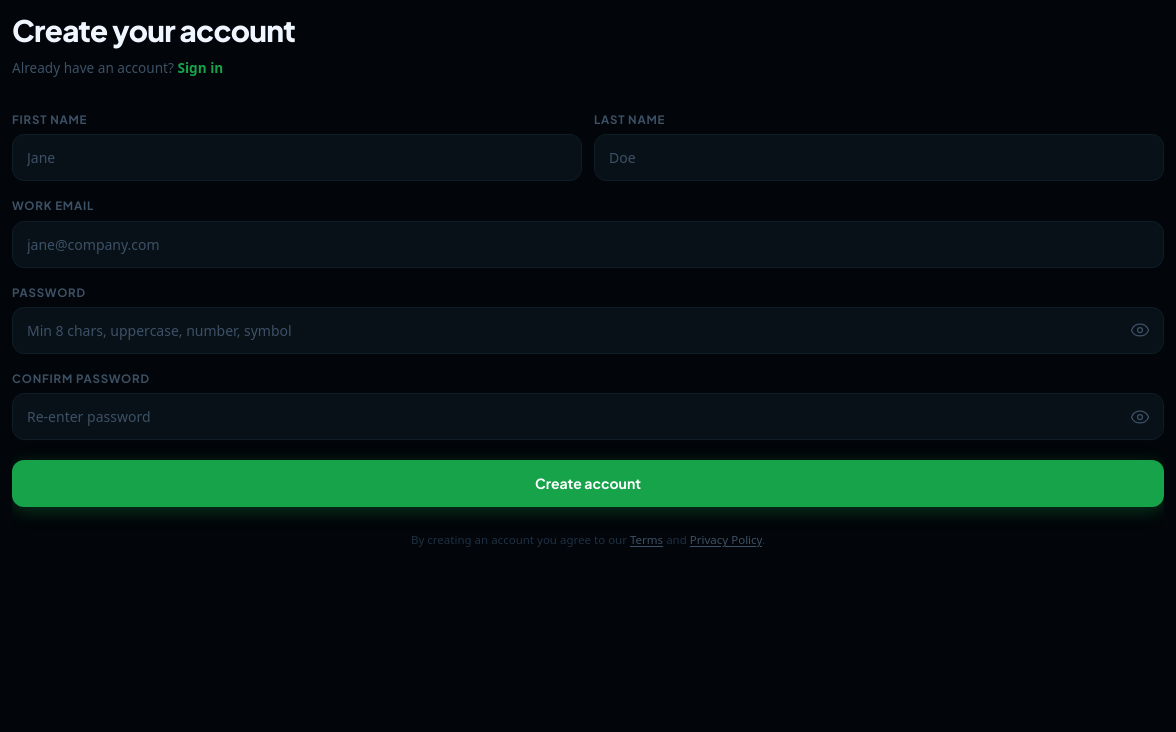
Test: RegisterForm › shows validation errors for empty submission
Step 1. Click the button "Create account" → (588, 484), box left=12, top=460, right=1164, bottom=507
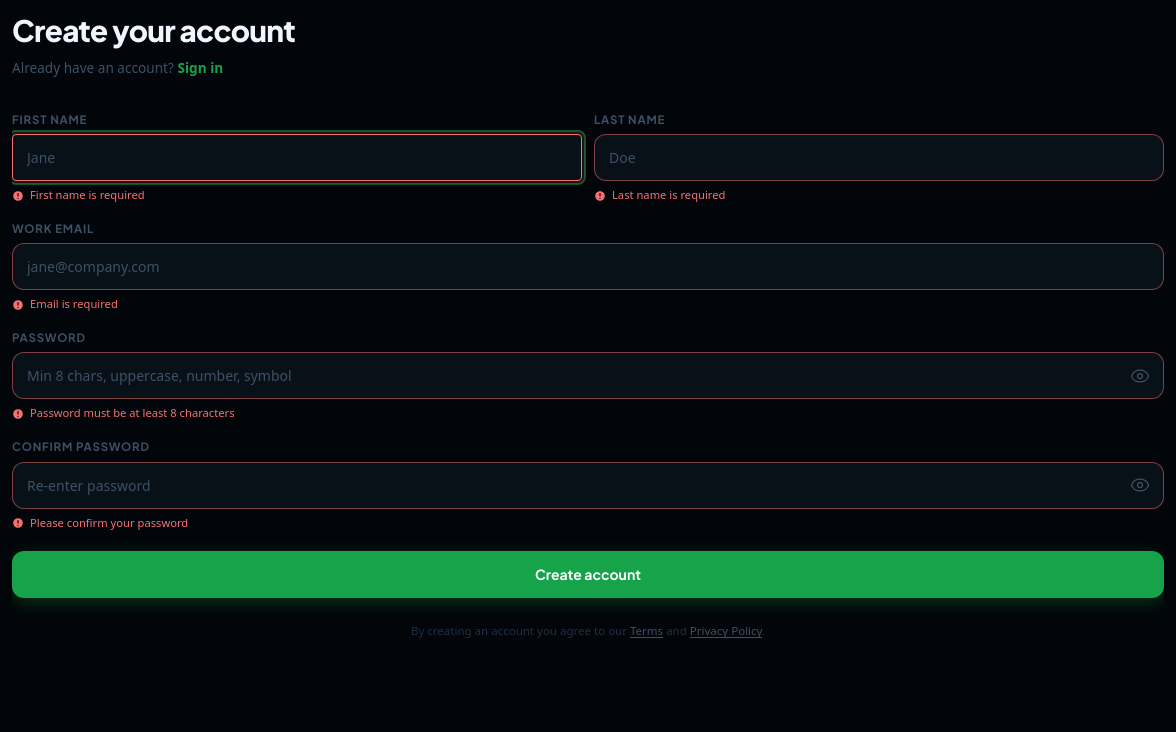
expect the text "First name is required" is shown: met, box left=12, top=187, right=145, bottom=202
